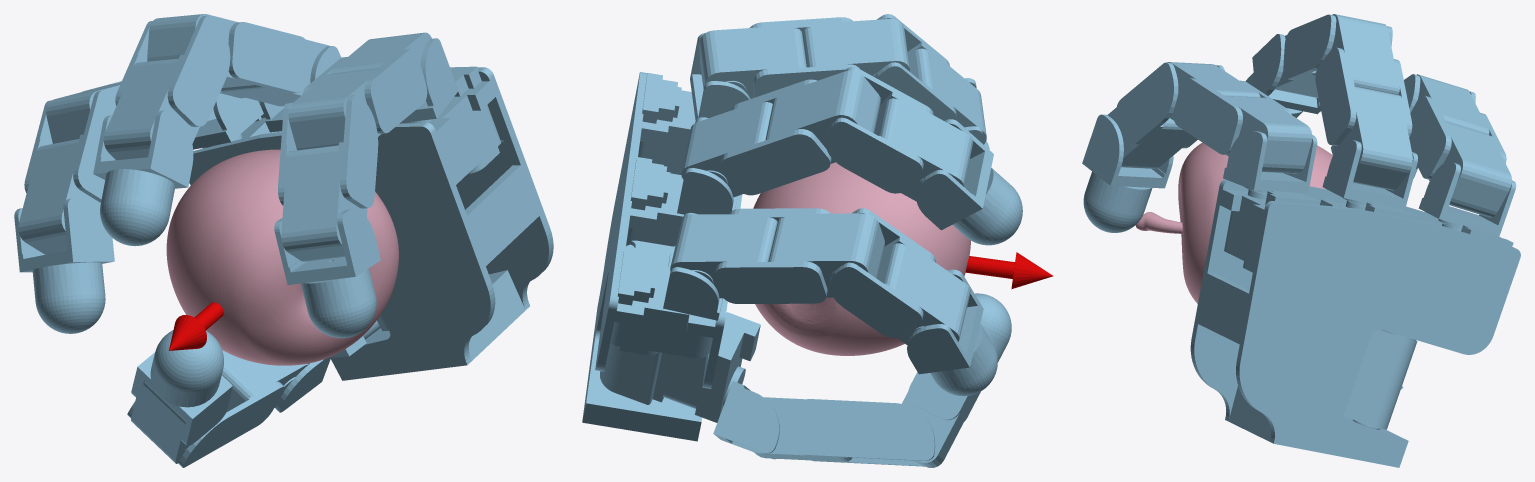
The picture shows the model from 3 angles, left to right: view 1: azimuth 30°, elevation 25°; view 2: azimuth 150°, elevation 25°; view 3: azimuth 270°, elevation 25°; orthographic projection. The views are drawn at different scales.
Parts seen in each view (by area): view 1: world, apple.stl; view 2: world, apple.stl; view 3: world, apple.stl.
Part boxes in pixels (<box>): world: <box>14,14,553,467</box>; apple.stl: <box>166,149,398,365</box>; world: <box>582,14,1053,467</box>; apple.stl: <box>753,162,970,355</box>; world: <box>1082,14,1520,467</box>; apple.stl: <box>1135,142,1332,303</box>.
Size of the model in its own units: 0.1784 by 0.1573 by 0.1682.
